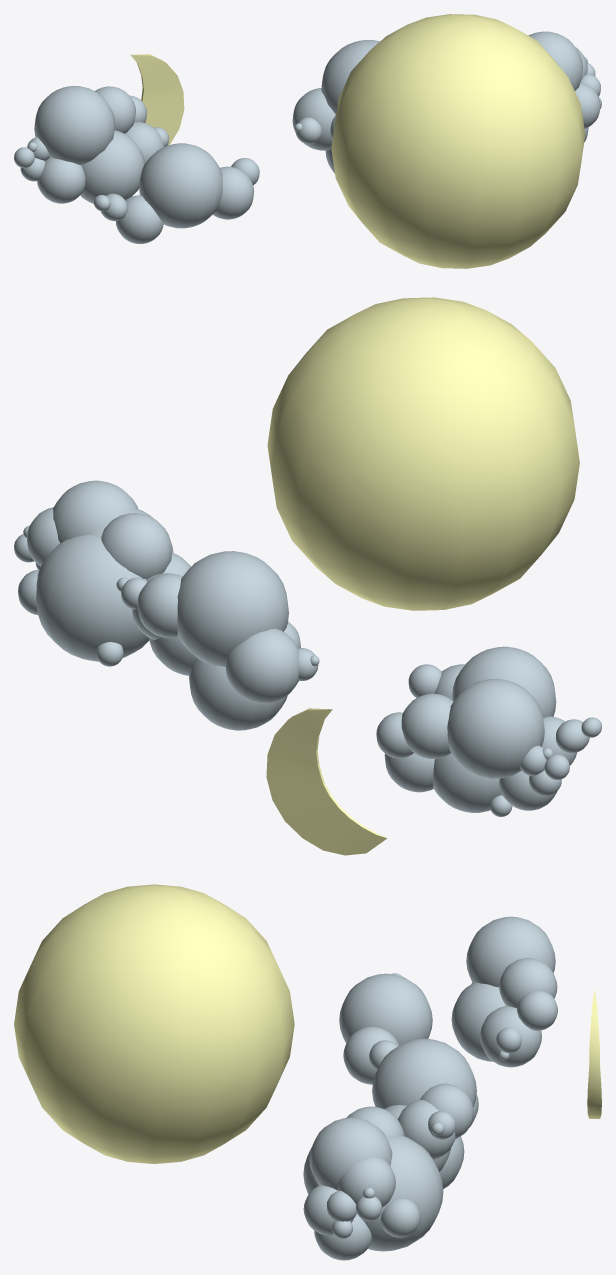
Rendered from Moon.gltf.
3 views of the same model, one above another, from view 1: azimuth 30°, elevation 25°; view 2: azimuth 150°, elevation 25°; view 3: azimuth 270°, elevation 25° (orthographic). The views are drawn at different scales.
Parts seen in each view (by area): view 1: MoonSun-Sun_Mat, MoonSun-Cloud_Mat; view 2: MoonSun-Sun_Mat, MoonSun-Cloud_Mat; view 3: MoonSun-Sun_Mat, MoonSun-Cloud_Mat.
Boxes of the visible parts, x1,y1,x2,y2 form: MoonSun-Sun_Mat: [130, 14, 585, 268]; MoonSun-Cloud_Mat: [14, 31, 601, 243]; MoonSun-Sun_Mat: [266, 297, 579, 855]; MoonSun-Cloud_Mat: [14, 480, 601, 816]; MoonSun-Sun_Mat: [14, 884, 601, 1163]; MoonSun-Cloud_Mat: [303, 916, 557, 1260].
Size of the model in its own units: 1390 by 672 by 1257.
